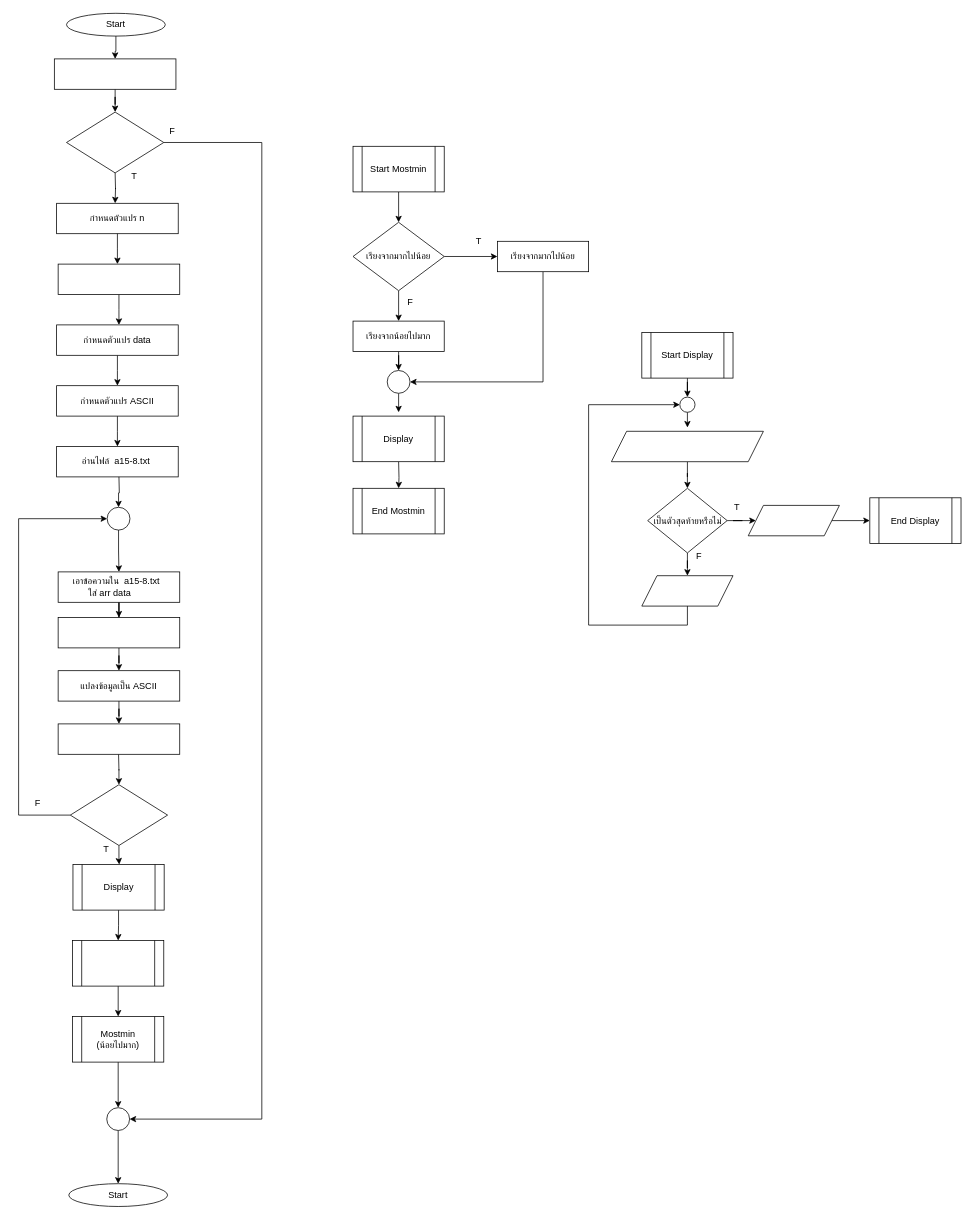
Image size: 974x1220. Some labels were removed from this diagram. The box of each missing label's shape, as (x1, y1, x2, y2) in pixels:
Mostmin (มากไปน้อย): (72, 940, 164, 986)
กำหนดตัวแปร order: (57, 263, 180, 294)
ปริ้น ,: (641, 575, 733, 606)
ปริ้น .: (747, 505, 839, 536)
ปริ้น data: (57, 617, 180, 648)
ปริ้นค่า: (611, 431, 763, 462)
เก็บที่แปลงไว้ใน arr ASCII: (57, 723, 180, 754)
เปิดได้หรือไม่: (66, 111, 164, 173)
เปิดไฟล์ a15-8.txt: (54, 58, 176, 89)
แปลงครบทุกตัวแล้วหรือไม่: (70, 784, 168, 846)
